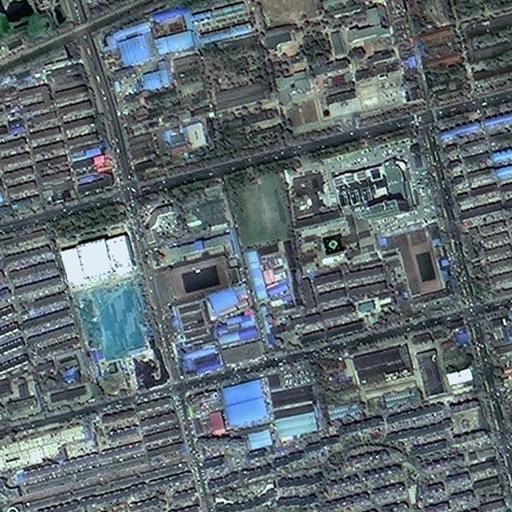school: (145, 225, 245, 306), (376, 215, 452, 311)
